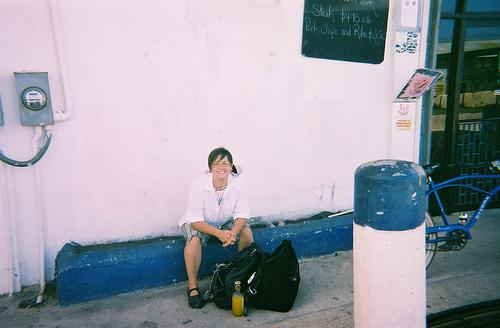bottle: (232, 281, 247, 318)
car: (426, 162, 500, 275)
person: (181, 148, 256, 308)
